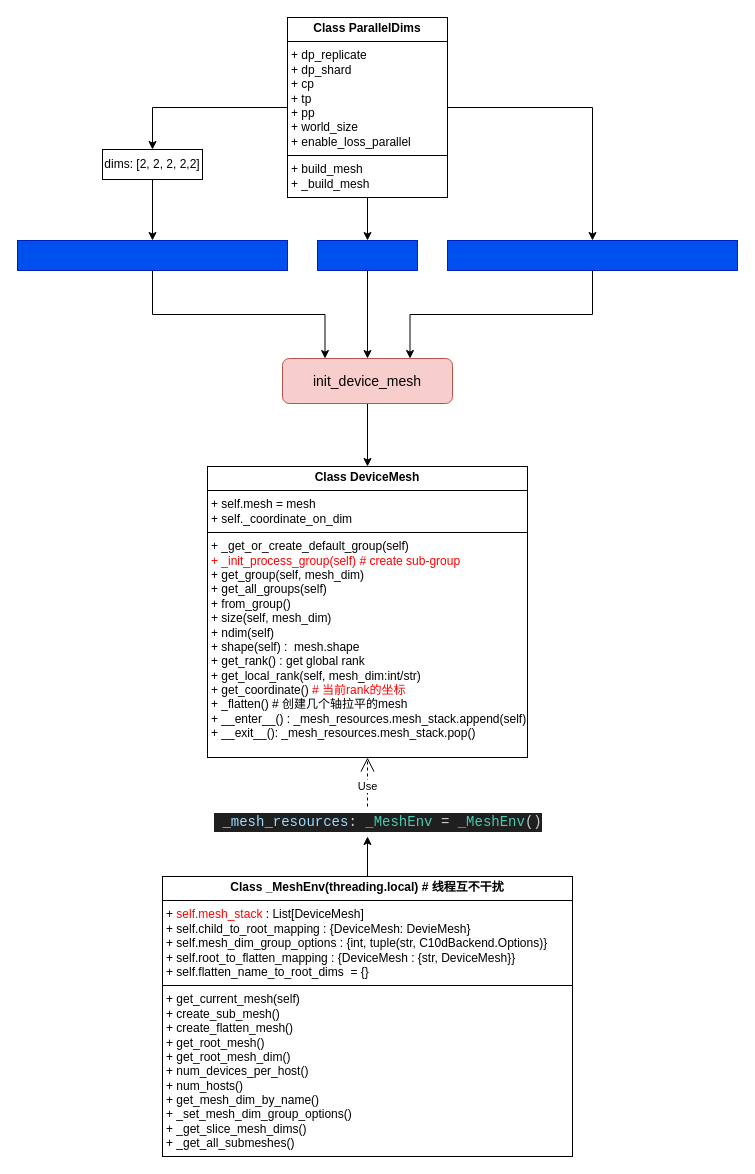
The diagram is 755 pixels wide and 1174 high, and some of its shapes have lost their labels. The shapes that lost their labels are listed below. From the top down, each one's centre as x and y in pixels, then its label:
(x=152, y=255): mesh: torch.arange(global_rank).int().view(dims)
(x=367, y=255): device_type
(x=592, y=255): names: ["pp", "dp_replicate", "dp_shard", "cp", "tp"]
